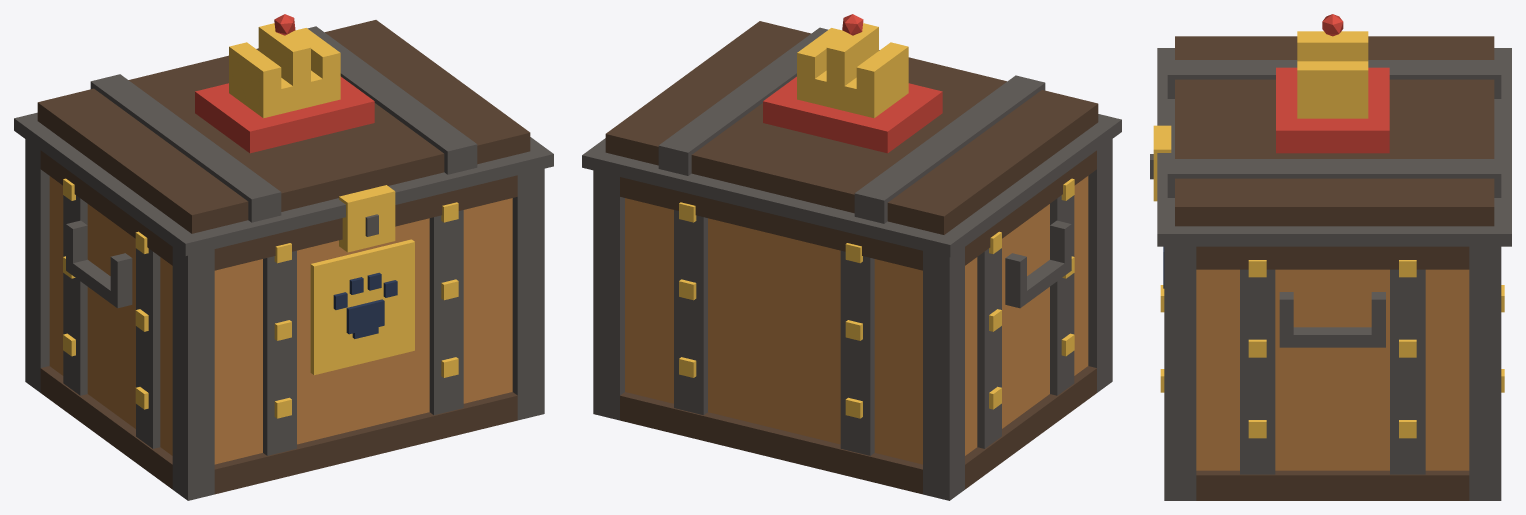
File: CatCafe_Prop_Crate_Castle.glb
3 views of the same model, side by side, from view 1: azimuth 30°, elevation 25°; view 2: azimuth 150°, elevation 25°; view 3: azimuth 270°, elevation 25° (orthographic). The views are drawn at different scales.
Visible parts, largest first — view 1: CatCafe_Prop_Crate_Castle, CatCafe_Prop_Crate_Castle_Lid; view 2: CatCafe_Prop_Crate_Castle, CatCafe_Prop_Crate_Castle_Lid; view 3: CatCafe_Prop_Crate_Castle, CatCafe_Prop_Crate_Castle_Lid.
Boxes of the visible parts, x1=… form: CatCafe_Prop_Crate_Castle: x1=25, y1=139, x2=544, y2=500; CatCafe_Prop_Crate_Castle_Lid: x1=14, y1=14, x2=553, y2=256; CatCafe_Prop_Crate_Castle: x1=593, y1=139, x2=1112, y2=500; CatCafe_Prop_Crate_Castle_Lid: x1=582, y1=14, x2=1121, y2=257; CatCafe_Prop_Crate_Castle: x1=1150, y1=125, x2=1504, y2=500; CatCafe_Prop_Crate_Castle_Lid: x1=1157, y1=14, x2=1511, y2=246.
Size of the model in its own units: 2.6 by 2.47 by 2.04.
Materials: 1 (1 with a texture image).
